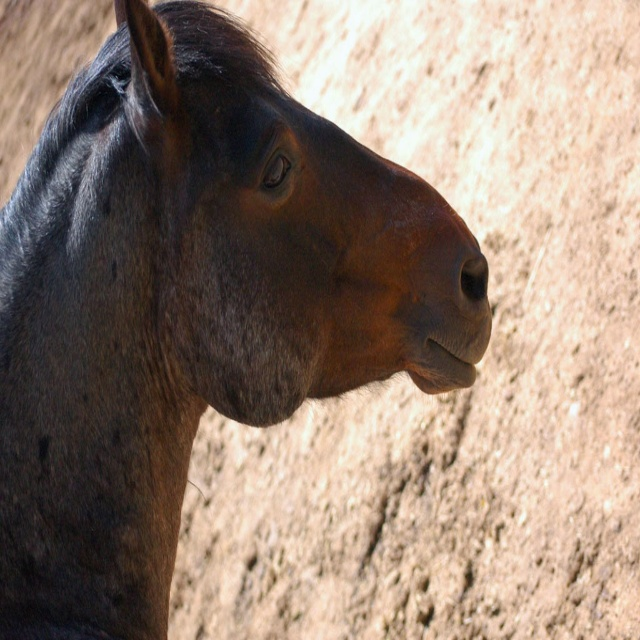Horse: (0, 0, 493, 639)
